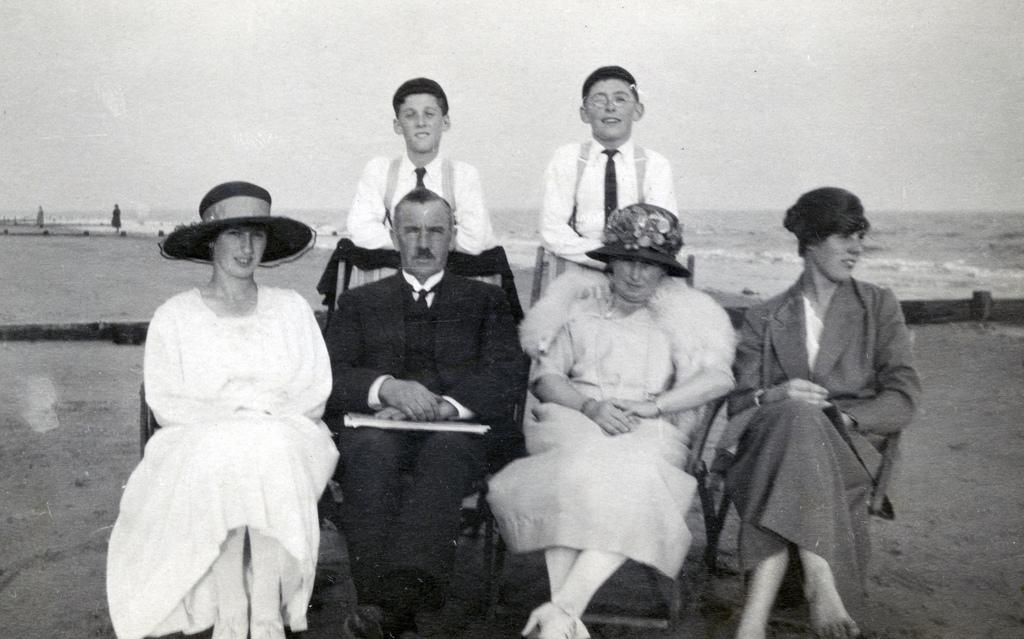Hat: (160, 180, 320, 268), (584, 201, 692, 278)
